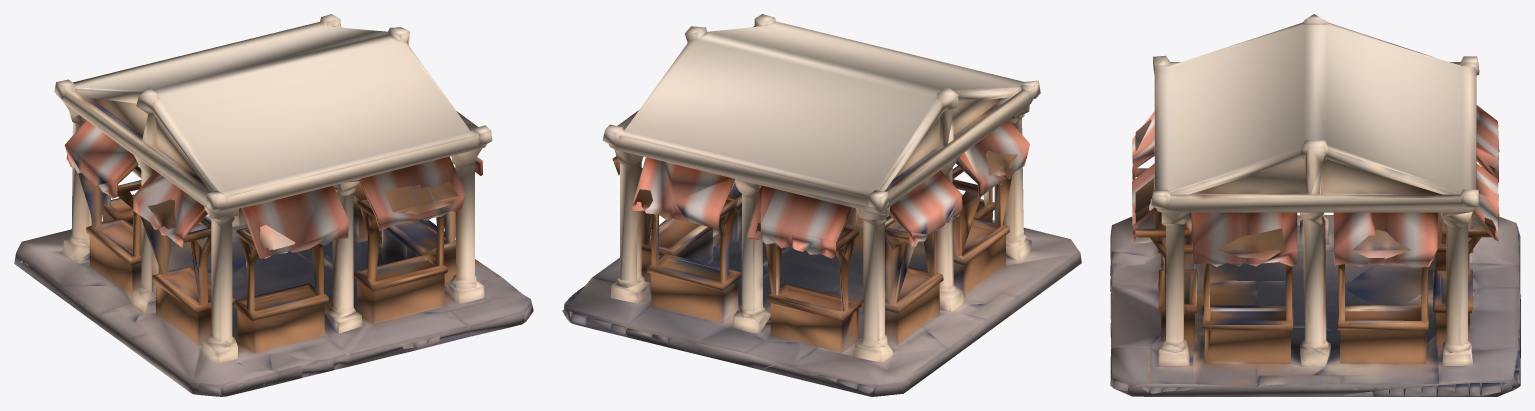
File: pazar.glb
3 renders of one model, left to right at view 1: azimuth 30°, elevation 25°; view 2: azimuth 150°, elevation 25°; view 3: azimuth 270°, elevation 25°, orthographic. The views are drawn at different scales.
Visible parts, largest first — view 1: node_0; view 2: node_0; view 3: node_0.
Boxes of the visible parts, x1=… form: node_0: x1=14, y1=14, x2=533, y2=396; node_0: x1=562, y1=14, x2=1081, y2=396; node_0: x1=1110, y1=14, x2=1520, y2=396.
Bounding box in the file's own units: 0.8034 × 0.5098 × 0.8167.
Materials: 1 (1 with a texture image).
